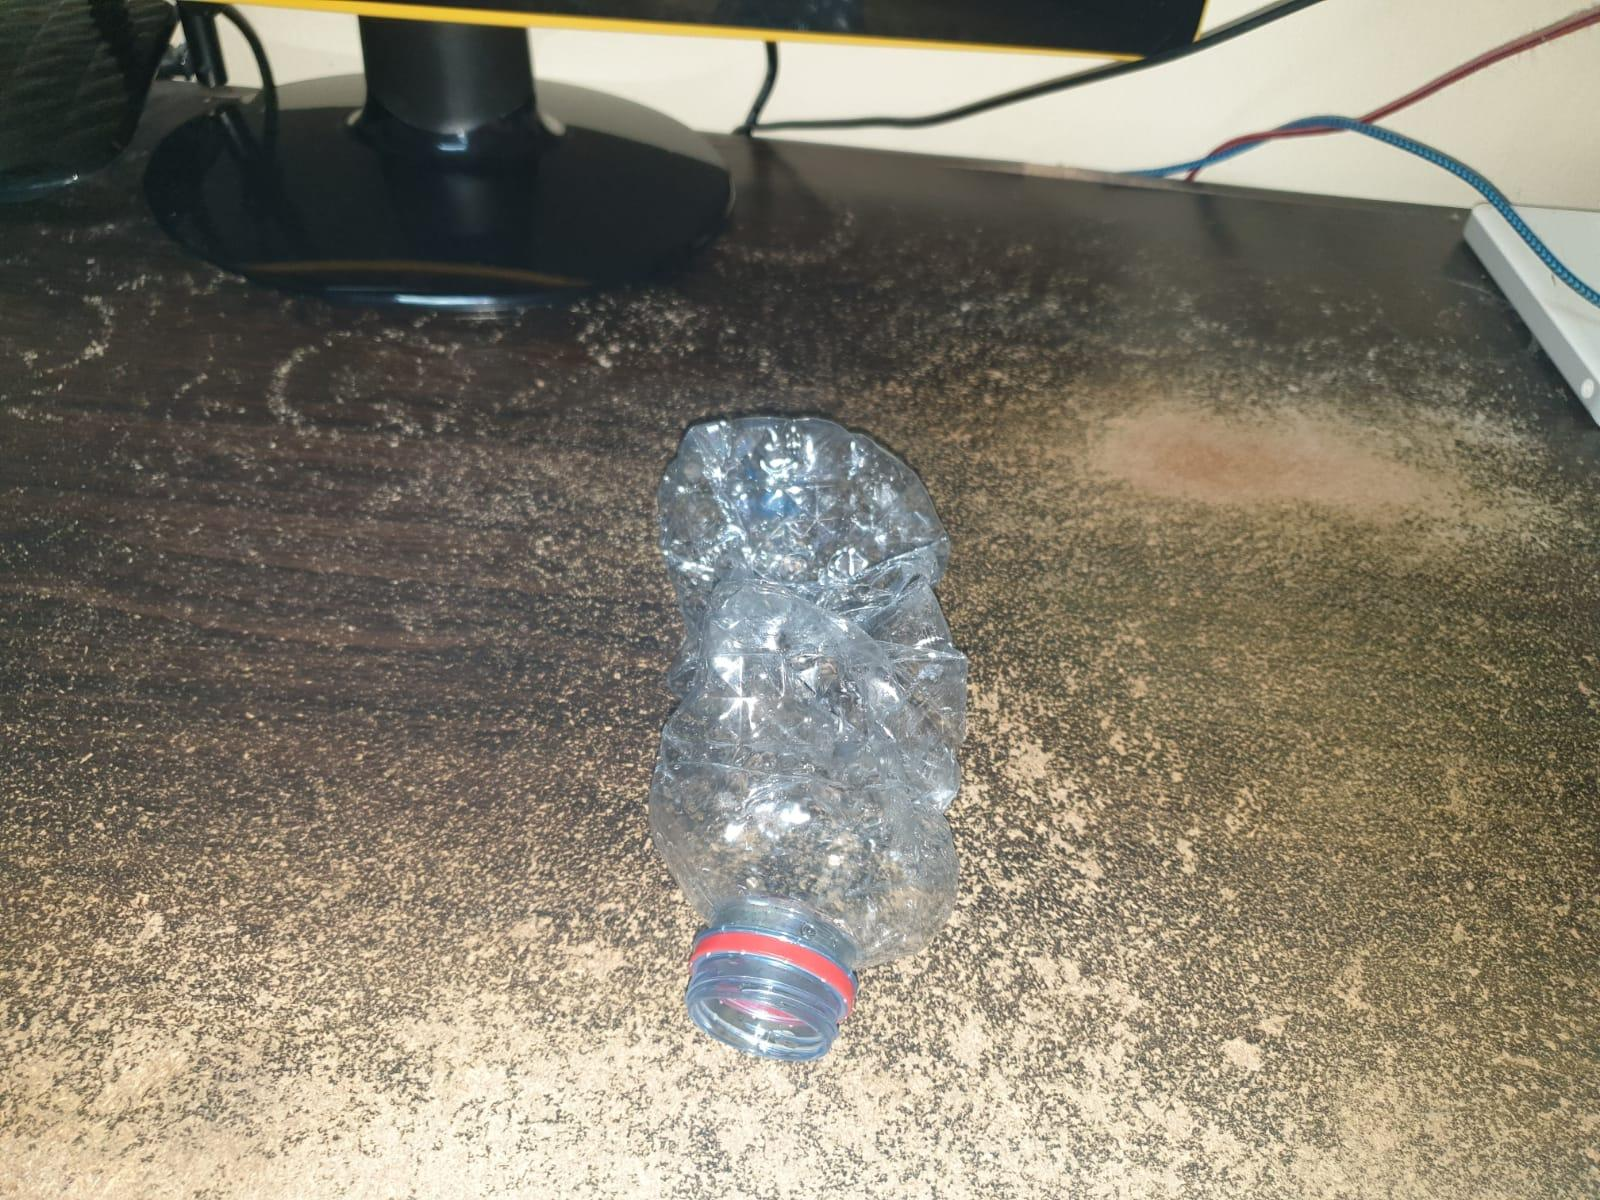bottle: (651, 405, 976, 1051)
